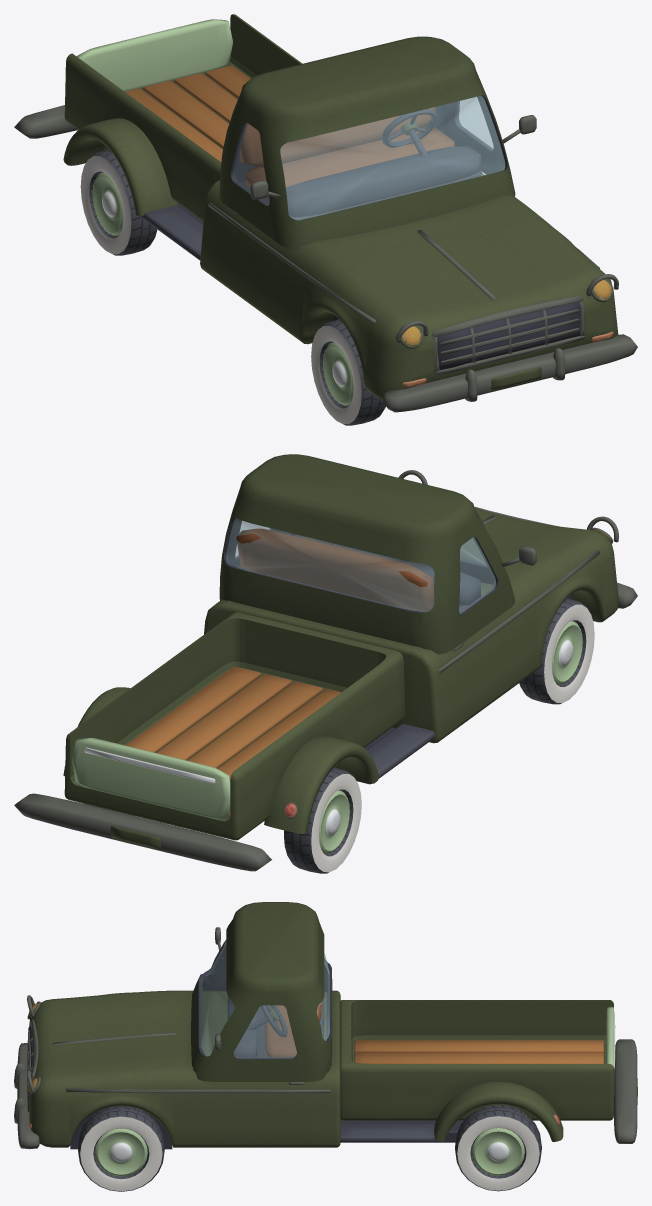
File: military_truck.glb
3 views of the same model, one above another, from view 1: azimuth 30°, elevation 25°; view 2: azimuth 150°, elevation 25°; view 3: azimuth 270°, elevation 25° (orthographic). The views are drawn at different scales.
Visible parts, largest first — view 1: 1950s-pickup-truck_body, 1950s-pickup-truck_windows, 1950s-pickup-truck_tailgate, 1950s-pickup-truck_wheel_rr, 1950s-pickup-truck_wheel_fr; view 2: 1950s-pickup-truck_body, 1950s-pickup-truck_windows, 1950s-pickup-truck_tailgate, 1950s-pickup-truck_wheel_rr, 1950s-pickup-truck_wheel_fr; view 3: 1950s-pickup-truck_body, 1950s-pickup-truck_wheel_rl, 1950s-pickup-truck_wheel_fl, 1950s-pickup-truck_windows, 1950s-pickup-truck_tailgate.
Boxes of the visible parts, x1,y1,x2,y2 form: 1950s-pickup-truck_body: [14, 14, 637, 412]; 1950s-pickup-truck_windows: [233, 96, 504, 219]; 1950s-pickup-truck_tailgate: [76, 19, 232, 91]; 1950s-pickup-truck_wheel_rr: [80, 149, 157, 255]; 1950s-pickup-truck_wheel_fr: [311, 319, 385, 425]; 1950s-pickup-truck_body: [14, 454, 637, 871]; 1950s-pickup-truck_windows: [226, 518, 495, 613]; 1950s-pickup-truck_tailgate: [72, 738, 230, 819]; 1950s-pickup-truck_wheel_rr: [284, 767, 361, 873]; 1950s-pickup-truck_wheel_fr: [519, 598, 594, 704]; 1950s-pickup-truck_body: [14, 902, 637, 1149]; 1950s-pickup-truck_wheel_rl: [455, 1104, 541, 1191]; 1950s-pickup-truck_wheel_fl: [77, 1106, 164, 1191]; 1950s-pickup-truck_windows: [200, 940, 329, 1057]; 1950s-pickup-truck_tailgate: [606, 1006, 615, 1095].
Bounding box in the file's own units: 2.26 × 1.94 × 5.29.
Materials: 24 (5 with a texture image).
